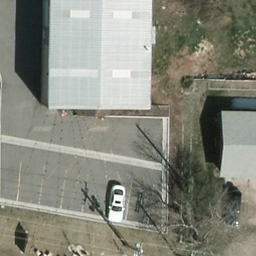car: (105, 186, 128, 224)
